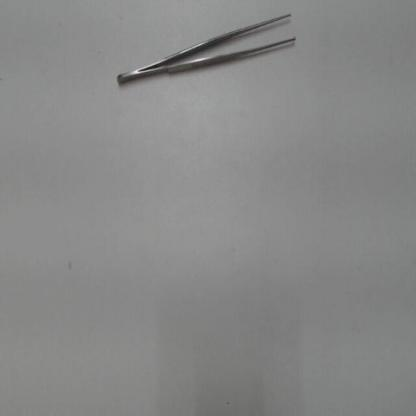Gillies Toothed Dissector: (107, 5, 302, 92)
